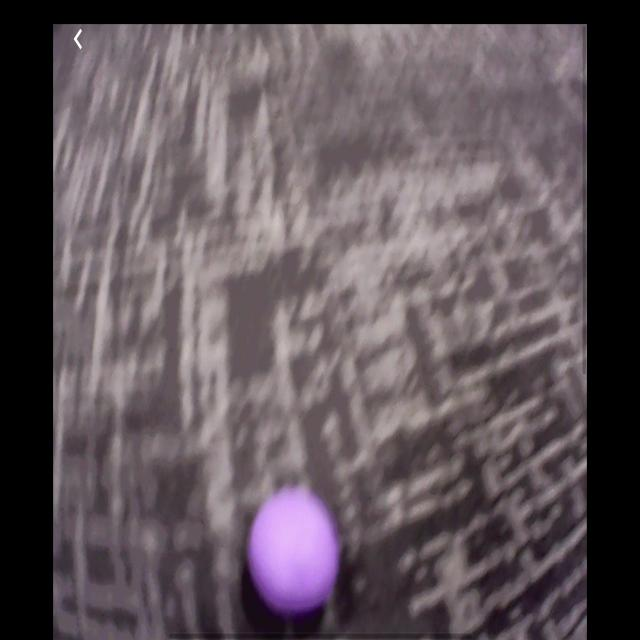ball: (254, 483, 338, 620)
